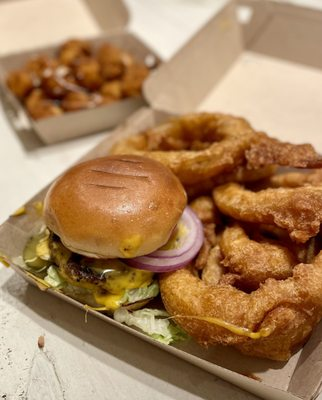soup: (14, 154, 202, 310)
